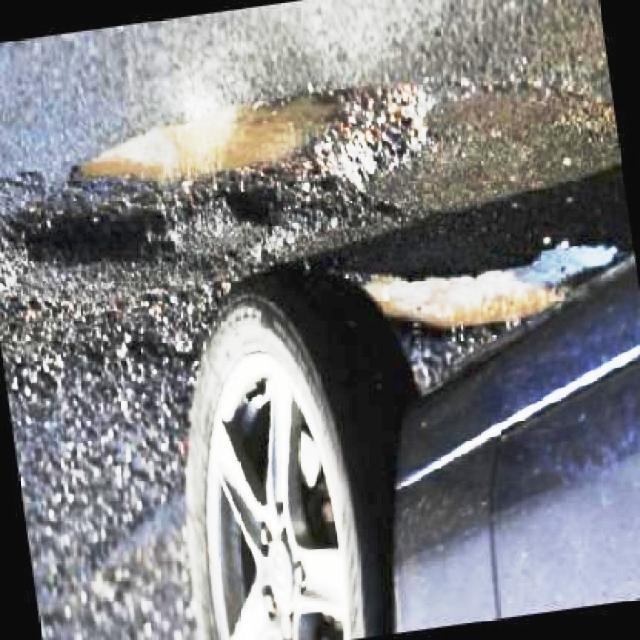pothole: (66, 78, 449, 230), (330, 230, 636, 344), (2, 183, 183, 271)
